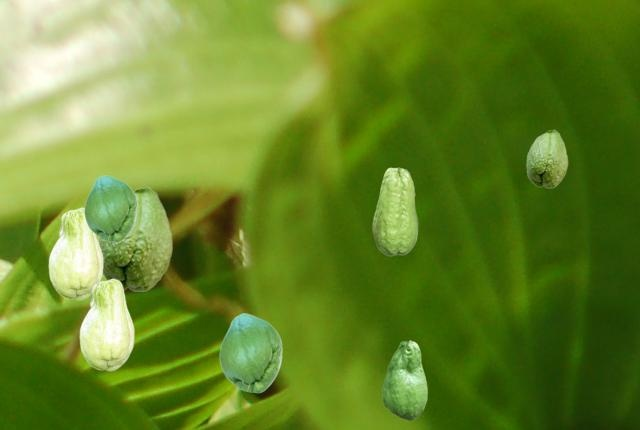sayote: (98, 186, 172, 291), (48, 207, 102, 299), (79, 278, 133, 370), (219, 313, 281, 392), (372, 167, 417, 255), (382, 340, 426, 419), (84, 175, 136, 241), (526, 129, 567, 187)
